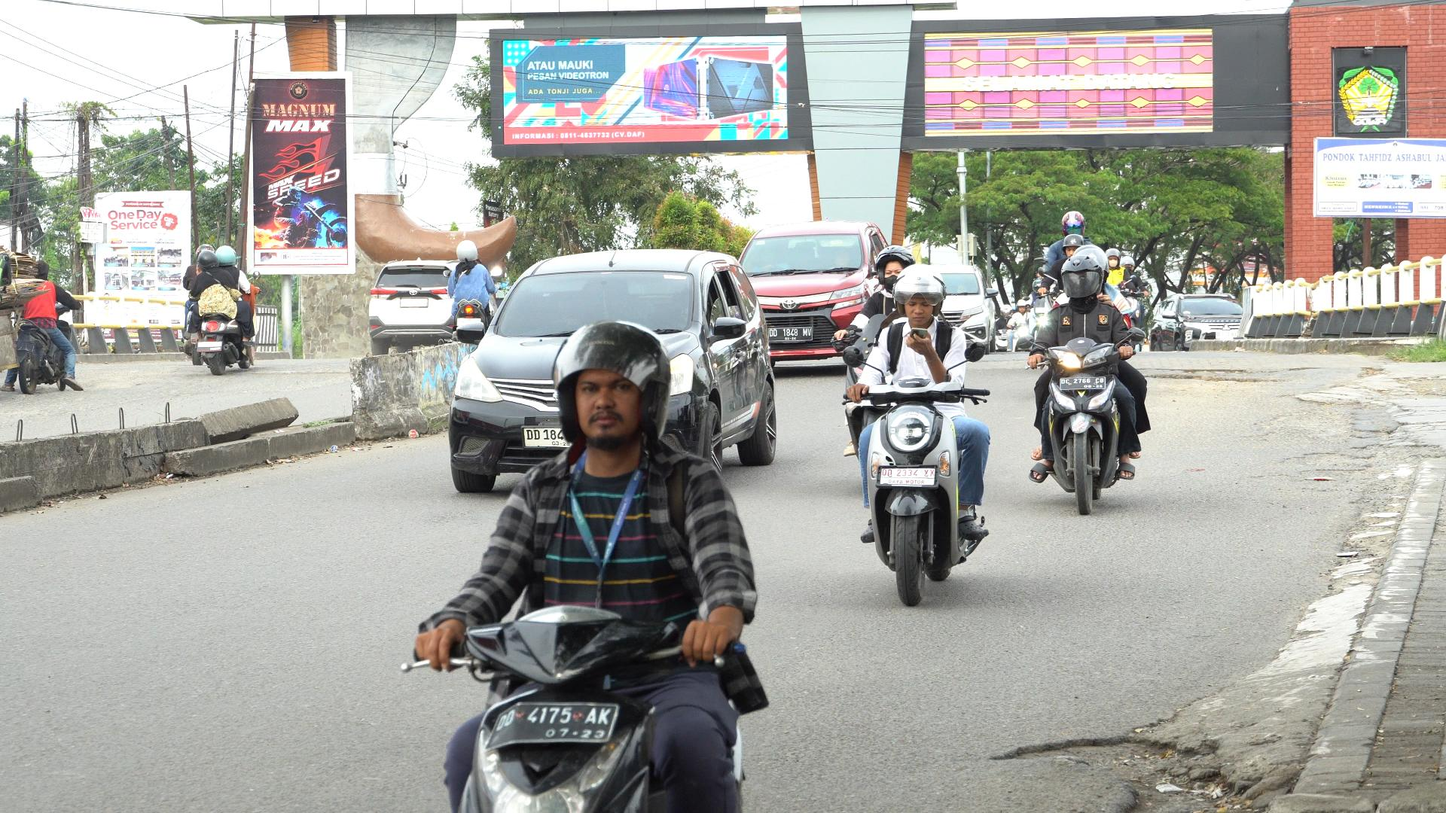number-plate: (485, 705, 618, 749), (881, 464, 938, 487), (1054, 372, 1105, 390)
